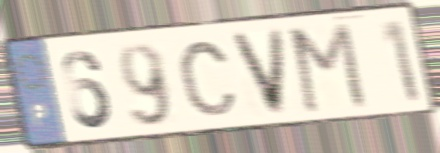1: (380, 16, 424, 105)
6: (61, 47, 114, 131)
9: (118, 40, 175, 129)
C: (176, 39, 240, 119)
M: (287, 19, 370, 116)
V: (226, 25, 289, 119)
